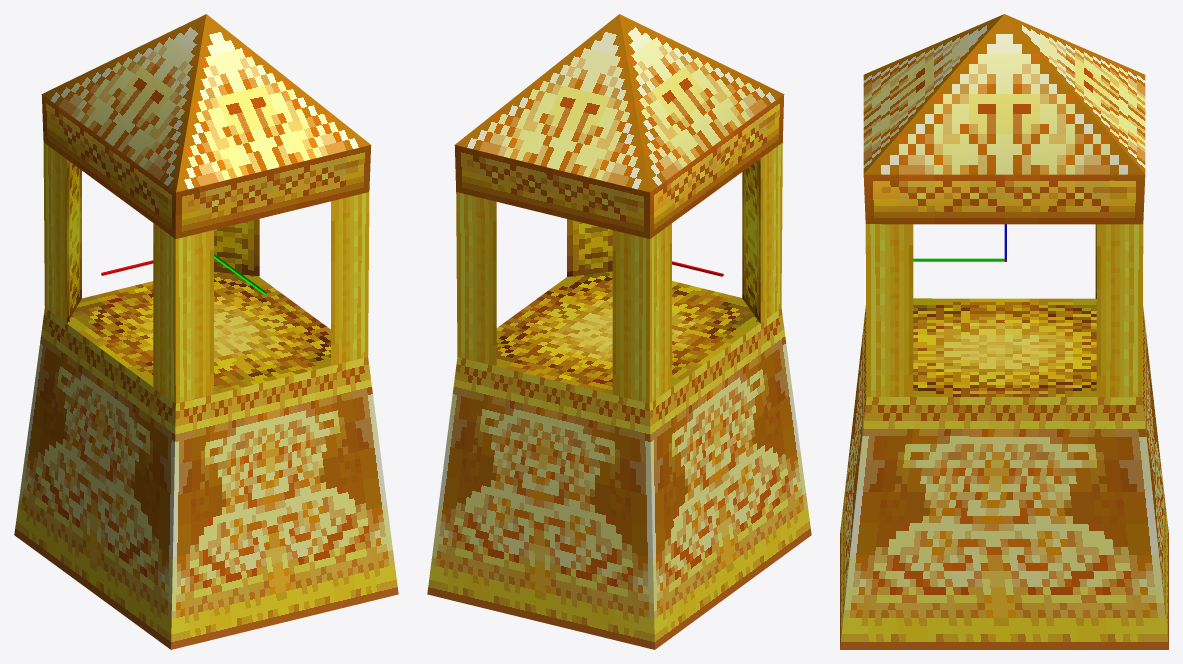
File: idle.glb
3 renders of one model, left to right at view 1: azimuth 30°, elevation 25°; view 2: azimuth 150°, elevation 25°; view 3: azimuth 270°, elevation 25°, orthographic. The views are drawn at different scales.
Parts seen in each view (by area): view 1: relicModel; view 2: relicModel; view 3: relicModel, Dummy_attachpoint.
Part boxes in pixels (bbox=[...]): relicModel: bbox=[14, 14, 398, 649]; relicModel: bbox=[427, 14, 811, 649]; relicModel: bbox=[840, 14, 1168, 649]; Dummy_attachpoint: bbox=[913, 224, 1006, 261].
Bounding box in the file's own units: 0.5469 × 1.27 × 0.6523.
Materials: 2 (1 with a texture image).
